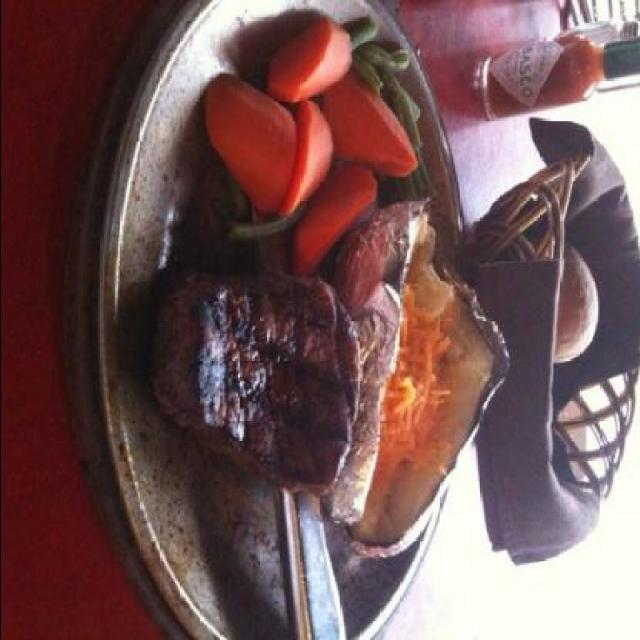Steak: (148, 196, 388, 528)
